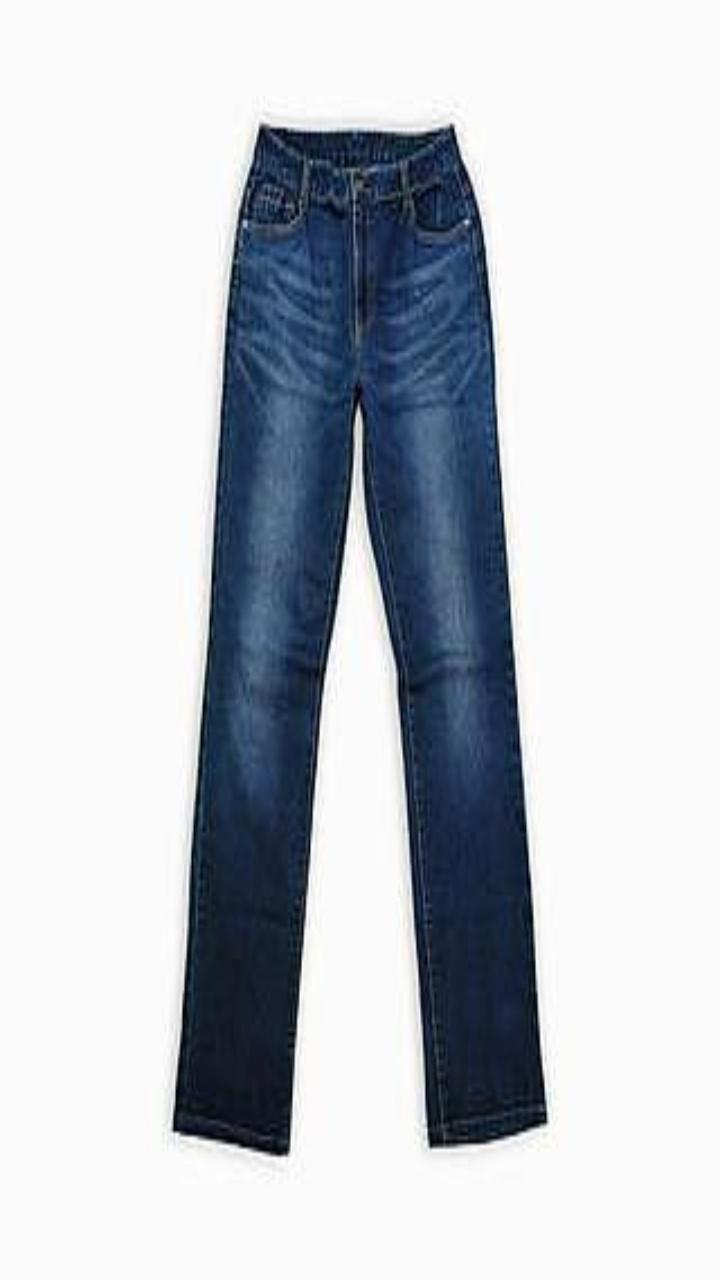Jeans: (174, 126, 545, 1152)
